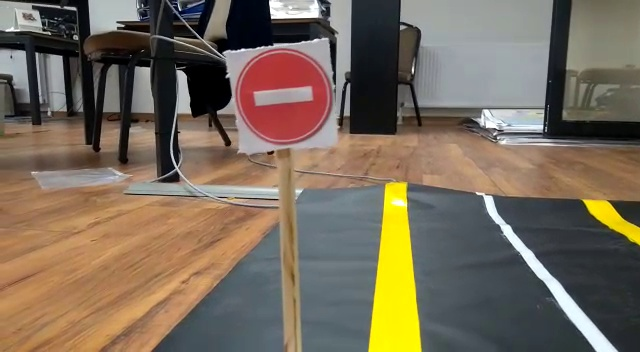girisi_olmayan_yol: (226, 48, 331, 145)
